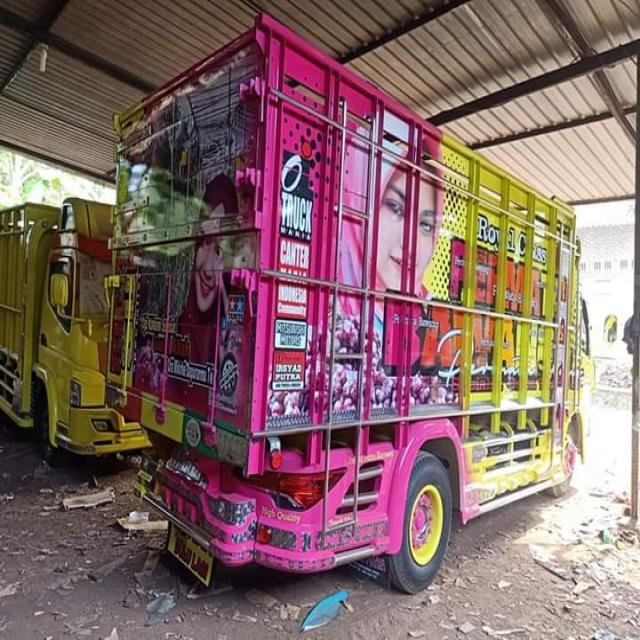car: (107, 10, 615, 590)
